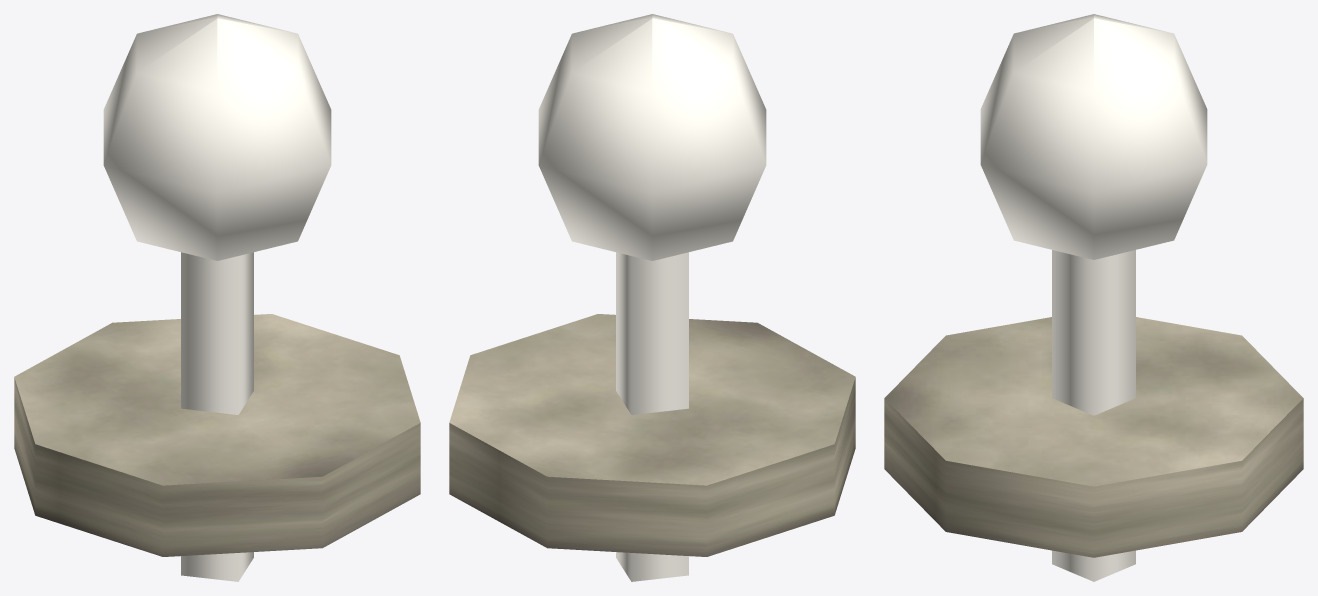
File: ballerina.glb
3 renders of one model, left to right at view 1: azimuth 30°, elevation 25°; view 2: azimuth 150°, elevation 25°; view 3: azimuth 270°, elevation 25°, orthographic.
Visible parts, largest first — view 1: ballerina; view 2: ballerina; view 3: ballerina.
Part boxes in pixels (<box>): ballerina: <box>14,14,420,581</box>; ballerina: <box>449,14,855,581</box>; ballerina: <box>884,14,1303,581</box>.
Size of the model in its own units: 0.08 by 0.115 by 0.08.
Materials: 2 (1 with a texture image).
